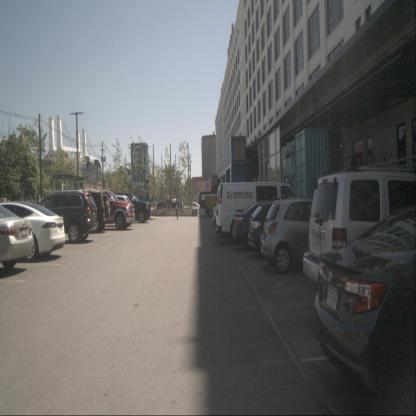human-pedestrian-adult: (175, 197, 179, 219)
vehicle-car: (314, 204, 416, 409), (303, 166, 416, 308), (262, 197, 356, 277), (215, 180, 307, 246), (247, 201, 340, 261), (232, 200, 314, 254), (0, 199, 67, 263), (30, 190, 99, 246), (0, 203, 35, 273), (61, 188, 112, 234), (206, 192, 230, 218), (156, 198, 178, 212)
vehicle-truck: (75, 190, 137, 230), (104, 192, 152, 223)
